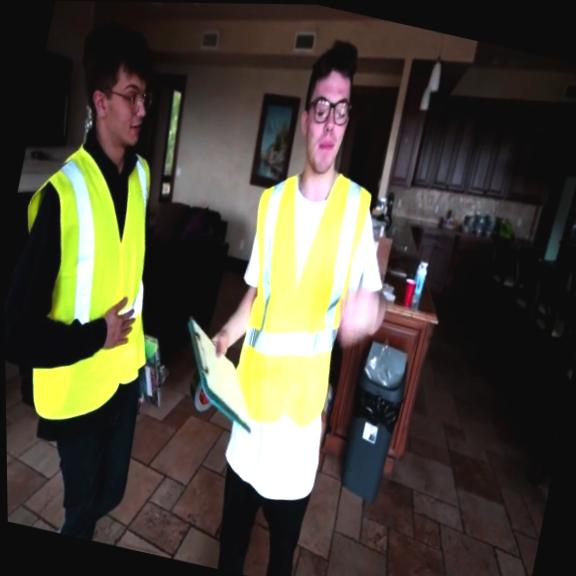safety_vest: (2, 133, 188, 440), (212, 154, 379, 433)
